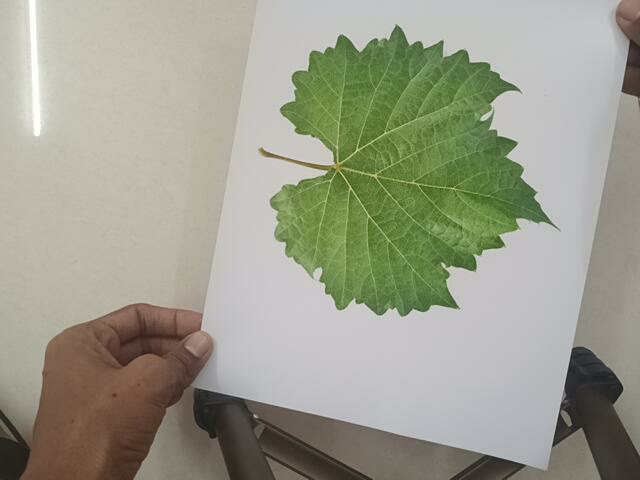Grape_Healthy: (257, 23, 559, 316)
